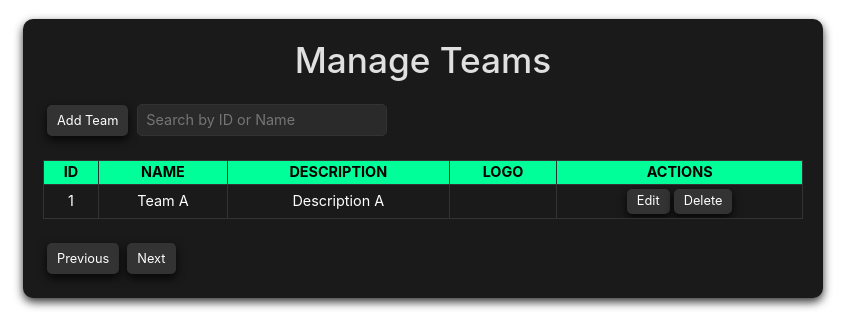
Test: TeamsAdmin Component › renders pagination buttons and handles navigation
Expected: the text "Team A" is shown, 98,184 -> 227,218
Expected: the text "Team B" is not shown
Note: Simulate clicking the "Next" button
What coordinates should you click on to do the following:
click the button "Next"
I would click on:
 (151, 258)
Its box is 127,243 -> 176,274.
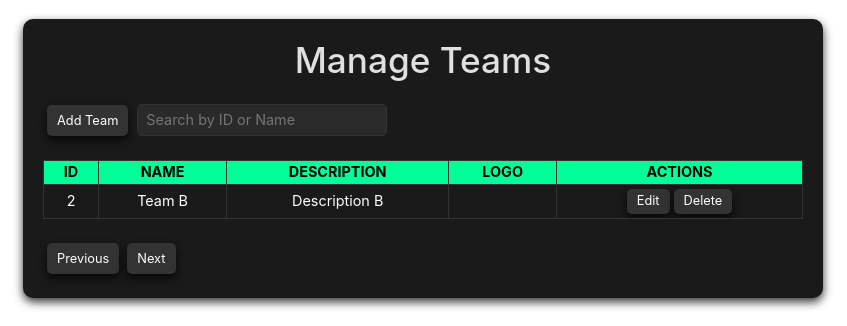
Result: the text "Team B" is shown at 98,184 -> 227,218
Result: the text "Team A" is gone
Note: Simulate clicking the "Previous" button
What coordinates should you click on to do the following:
click the button "Previous"
I would click on:
 (83, 258)
Its box is 47,243 -> 119,274.
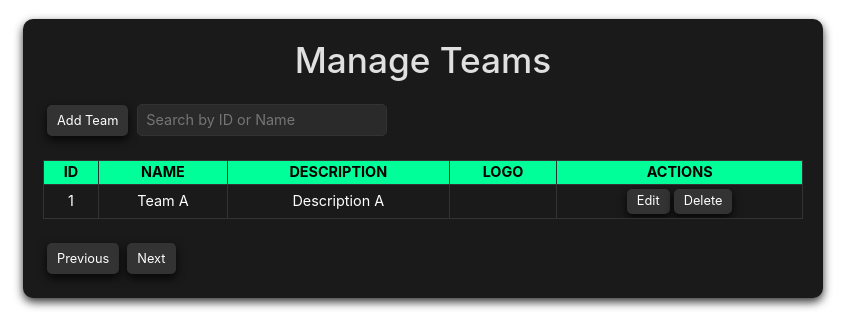
Result: the text "Team A" is shown at 98,184 -> 227,218
Result: the text "Team B" is gone
